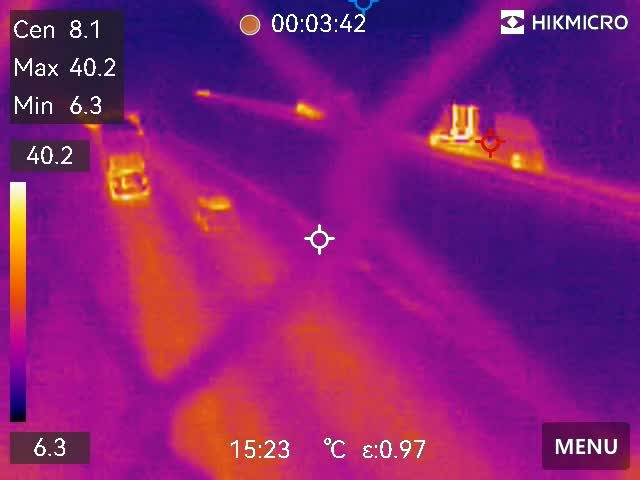heavyTruck: (421, 95, 557, 174), (99, 109, 162, 206)
